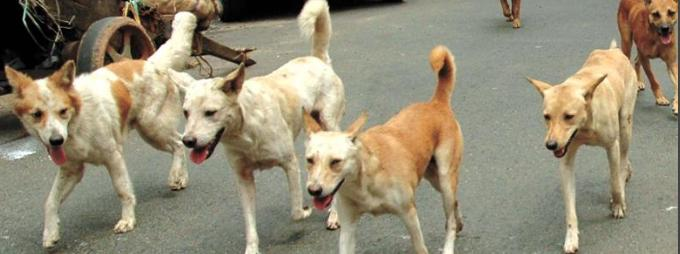dog_aggressive: (618, 2, 680, 87)
normal_dogs: (299, 50, 484, 254), (0, 58, 208, 222), (181, 40, 342, 229), (526, 47, 653, 234)
